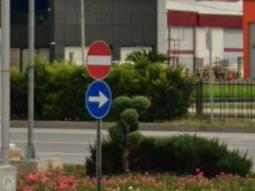turnright: (86, 81, 112, 119)
